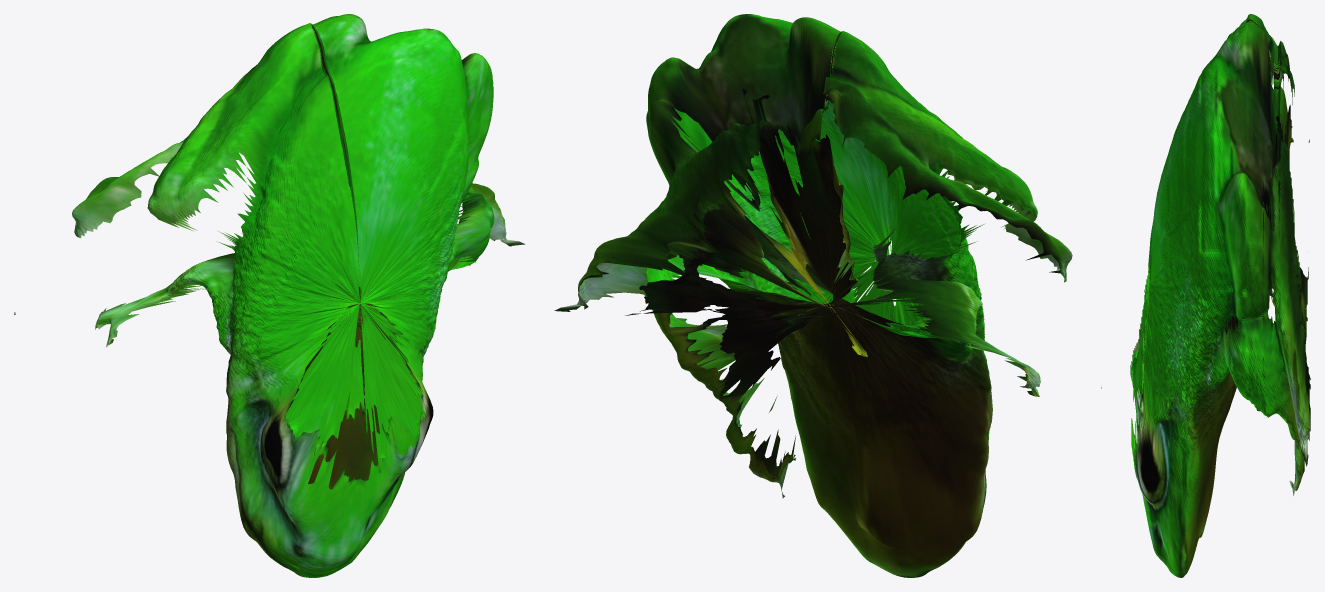
3 renders of one model, left to right at view 1: azimuth 30°, elevation 25°; view 2: azimuth 150°, elevation 25°; view 3: azimuth 270°, elevation 25°, orthographic. The views are drawn at different scales.
Parts seen in each view (by area): view 1: geometry_0; view 2: geometry_0; view 3: geometry_0.
Part boxes in pixels (x1,y1,x2,y2): geometry_0: [14, 14, 524, 577]; geometry_0: [554, 14, 1101, 577]; geometry_0: [1130, 14, 1310, 577].
Size of the model in its own units: 1.88 by 1.85 by 0.5343.
1 material, 1 textured.
